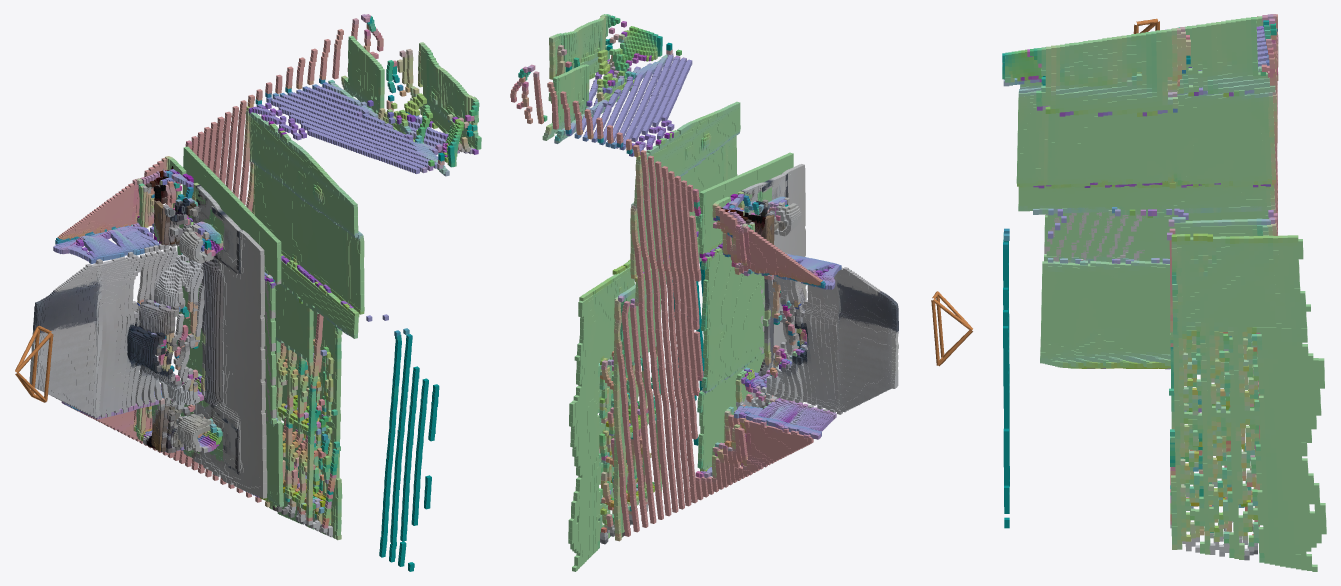
The picture shows the model from 3 angles, left to right: view 1: azimuth 30°, elevation 25°; view 2: azimuth 150°, elevation 25°; view 3: azimuth 270°, elevation 25°; orthographic projection. The views are drawn at different scales.
Size of the model in its own units: 5.32 by 5.93 by 2.94.
